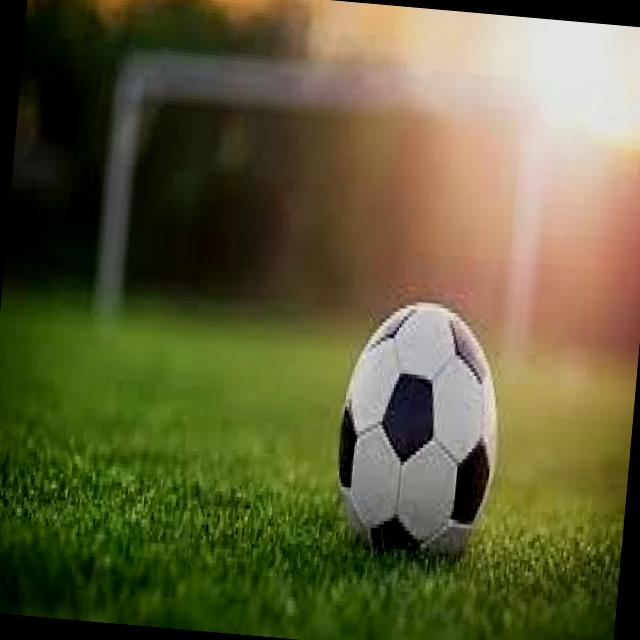Soccer Ball: (324, 292, 506, 564)
